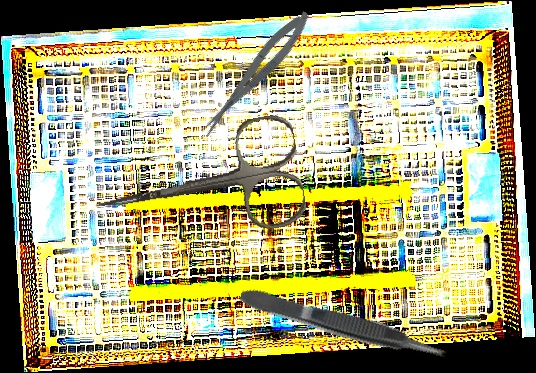Iris Scissors: (86, 111, 310, 259)
Micro Scissor: (192, 6, 317, 141)
Tissue Forceps: (237, 280, 450, 368)
